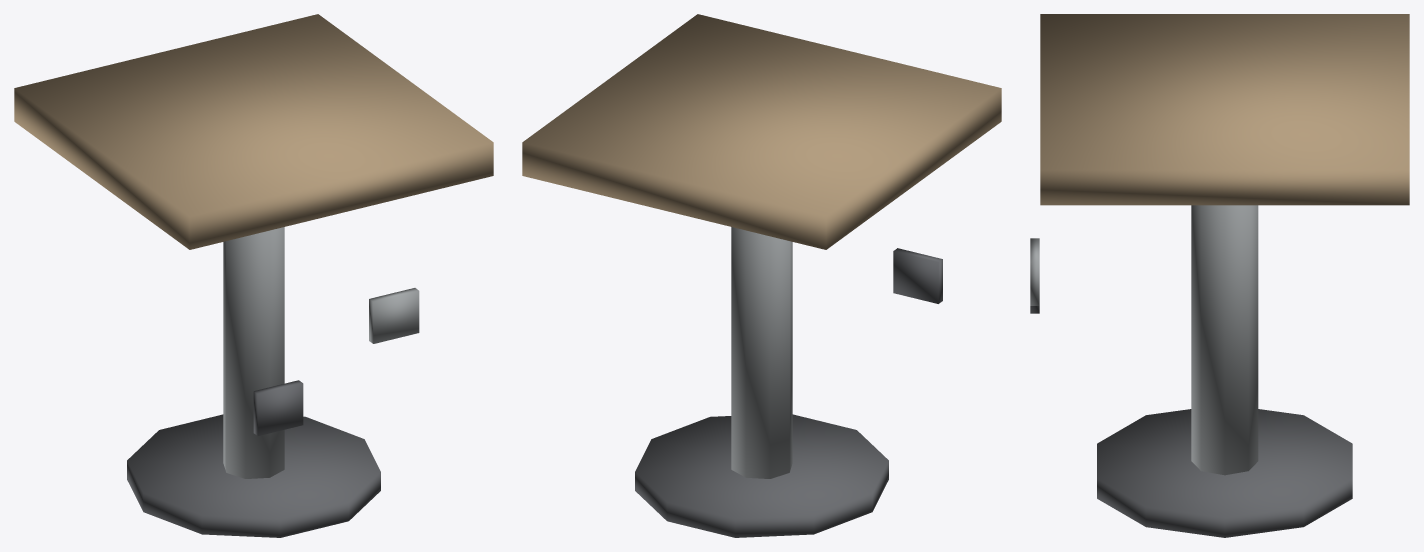
File: cafe_pedestal_table__weathered.glb
3 views of the same model, side by side, from view 1: azimuth 30°, elevation 25°; view 2: azimuth 150°, elevation 25°; view 3: azimuth 270°, elevation 25° (orthographic). The views are drawn at different scales.
Visible parts, largest first — view 1: world; view 2: world; view 3: world.
Boxes of the visible parts, x1,y1,x2,y2 form: world: (14, 14, 493, 537); world: (522, 14, 1001, 537); world: (1030, 14, 1409, 537).
Size of the model in its own units: 0.66 by 0.7673 by 0.6775.
